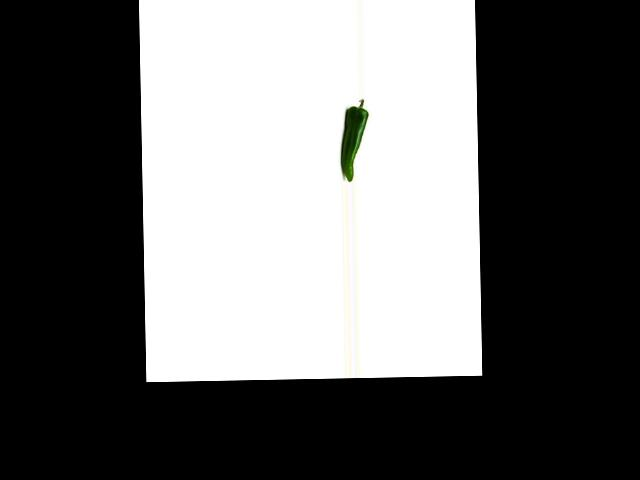bell_pepper: (338, 96, 371, 182)
